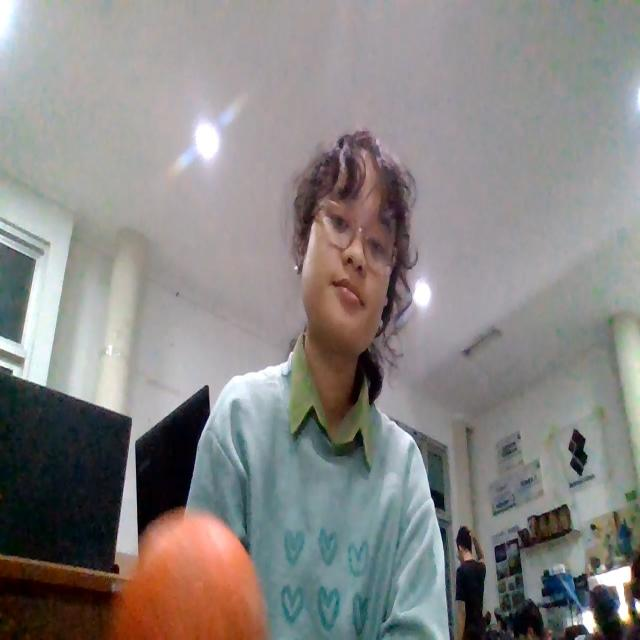ball: (109, 508, 269, 638)
